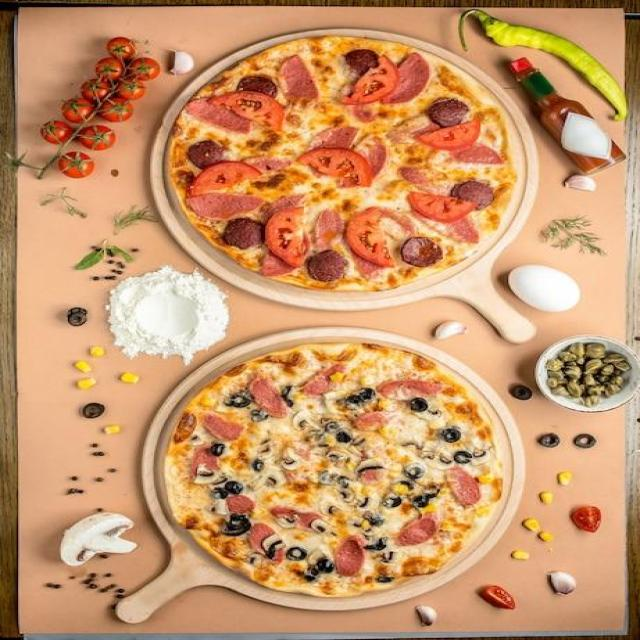basil: (538, 218, 607, 256), (76, 240, 134, 272), (40, 188, 92, 218), (114, 205, 159, 235)
olive: (571, 434, 605, 450), (222, 516, 251, 534), (361, 538, 392, 553), (343, 387, 376, 401), (402, 462, 424, 482), (79, 402, 107, 417), (64, 306, 86, 325), (509, 383, 532, 401), (392, 480, 416, 496), (223, 393, 254, 405), (404, 493, 432, 506), (226, 478, 246, 494), (538, 434, 562, 447), (305, 566, 324, 582), (364, 510, 382, 526), (442, 426, 460, 442), (208, 440, 226, 456), (280, 385, 294, 405), (319, 558, 340, 571), (380, 496, 401, 509), (454, 449, 471, 465), (286, 548, 308, 560), (335, 428, 350, 443), (209, 486, 227, 498), (424, 484, 442, 496), (253, 457, 267, 472), (411, 399, 427, 411), (374, 577, 396, 584)
pepperoni: (182, 99, 251, 134), (382, 55, 431, 103), (182, 193, 264, 219), (277, 55, 319, 101), (246, 373, 287, 416), (442, 468, 485, 507), (374, 377, 441, 400), (388, 115, 442, 142), (400, 166, 450, 195), (298, 365, 345, 395), (430, 218, 478, 245), (200, 412, 245, 440), (308, 250, 347, 282), (400, 237, 443, 266), (249, 524, 283, 560), (223, 218, 263, 248), (315, 208, 340, 255), (355, 136, 385, 174), (310, 126, 359, 149), (397, 515, 434, 545), (451, 181, 493, 207), (267, 507, 316, 529), (338, 539, 366, 576), (191, 447, 224, 478), (428, 99, 463, 126), (451, 148, 506, 164), (356, 450, 381, 480), (344, 49, 379, 70), (350, 252, 383, 274), (240, 76, 280, 94), (188, 140, 218, 163), (264, 196, 300, 214), (225, 493, 252, 512)
pizza: (157, 342, 517, 599), (167, 37, 522, 293)
